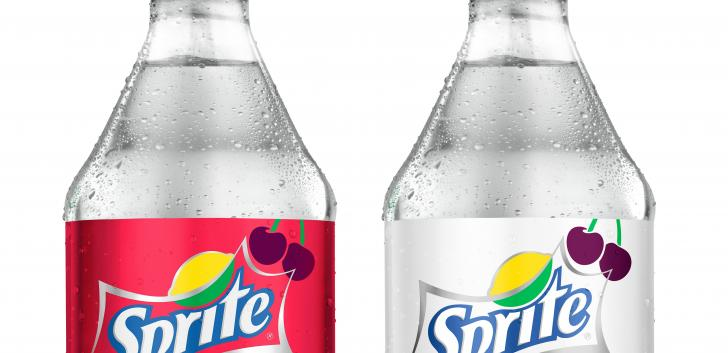sprite: (110, 266, 273, 352), (428, 266, 589, 351)
